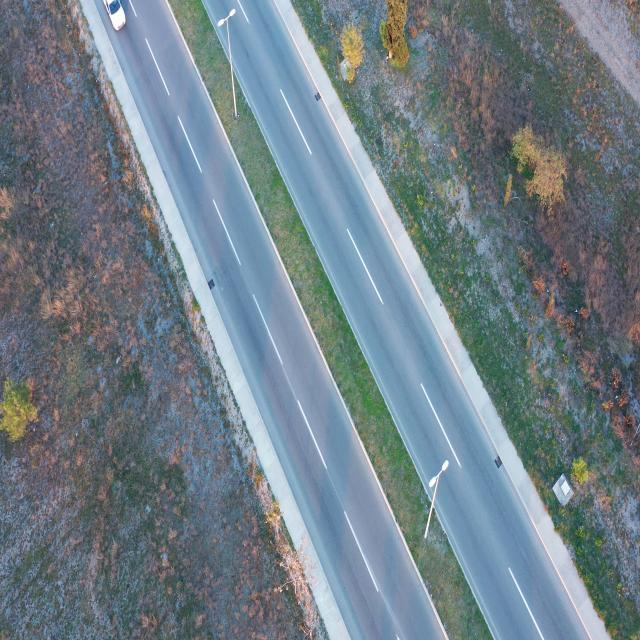vehicle: (103, 1, 126, 31)
